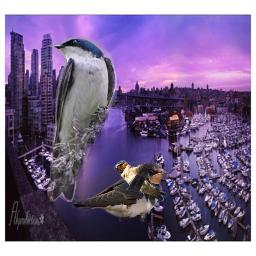Swallow: (45, 36, 117, 202), (72, 161, 168, 222), (114, 160, 167, 206)
